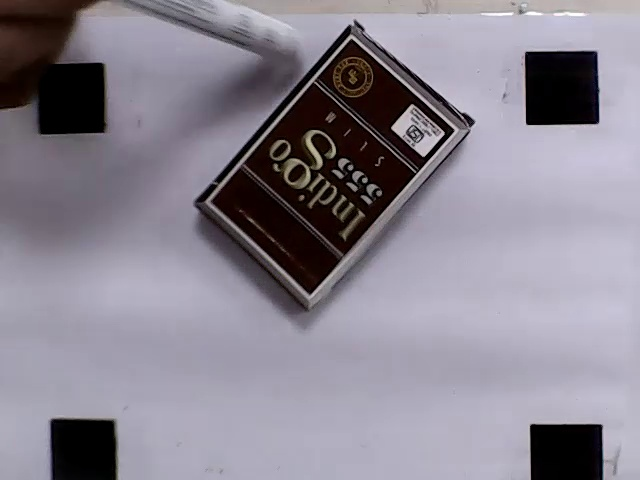BEX: (206, 33, 457, 299)
